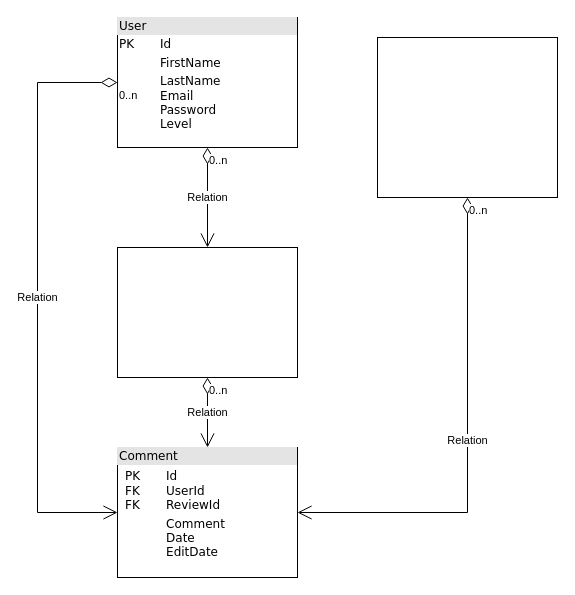
This 575x595 diagram has some shape labels left out. Here are the shapes that lost their labels. From the top down, the box of each, then its label:
(376, 36, 558, 198): Movie PK Id Title FullTitle Year Image Crew Rating ImdbRatingCount
(116, 246, 298, 378): Review PK FK FK Id UserId MovieId Review StarRating Date EditDate VoteCount
